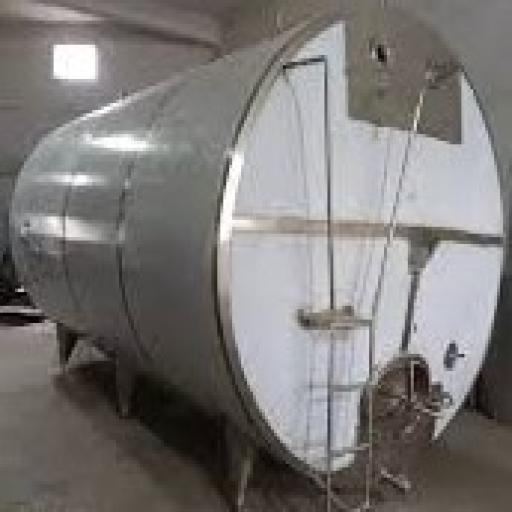silo: (12, 3, 506, 509)
